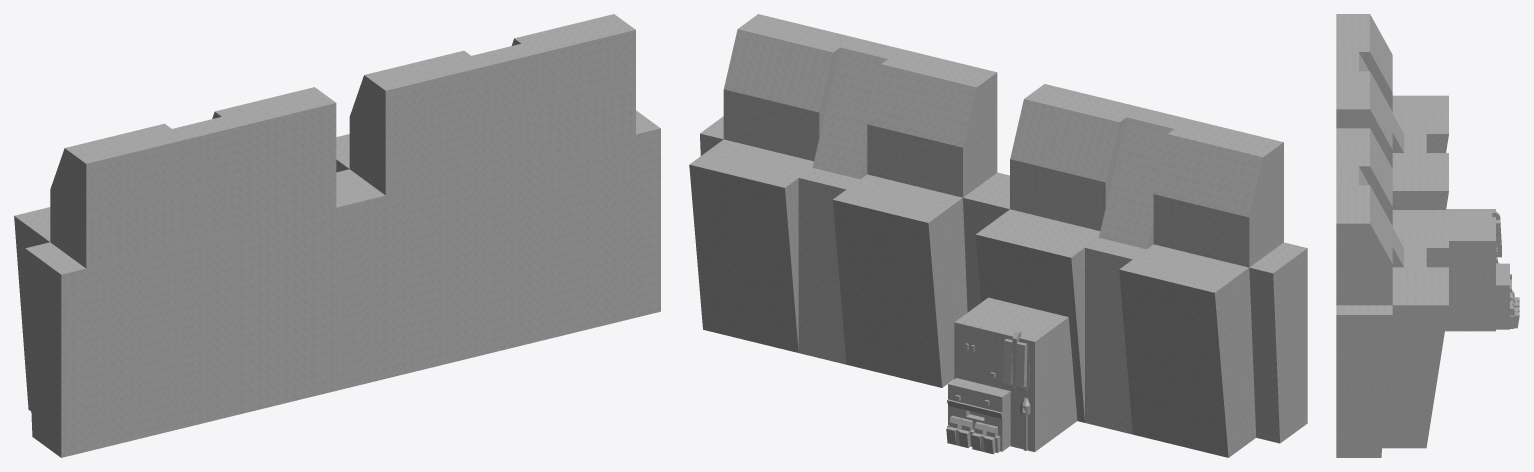
The model's file is BuildingLow6.fbx.
The picture shows the model from 3 angles, left to right: view 1: azimuth 30°, elevation 25°; view 2: azimuth 150°, elevation 25°; view 3: azimuth 270°, elevation 25°; orthographic projection. The views are drawn at different scales.
Parts seen in each view (by area): view 1: Cube.002; view 2: Cube.002; view 3: Cube.002.
Boxes of the visible parts, box(x1,y1,x2,y2) form: Cube.002: box(14, 14, 660, 457); Cube.002: box(689, 14, 1307, 457); Cube.002: box(1336, 14, 1519, 457).
Bounding box in the file's own units: 41296 × 18949 × 14005.
